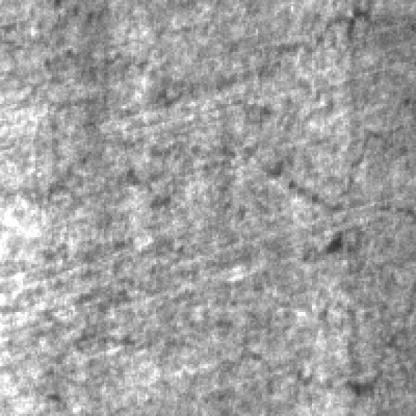crazing: (42, 10, 360, 216)
